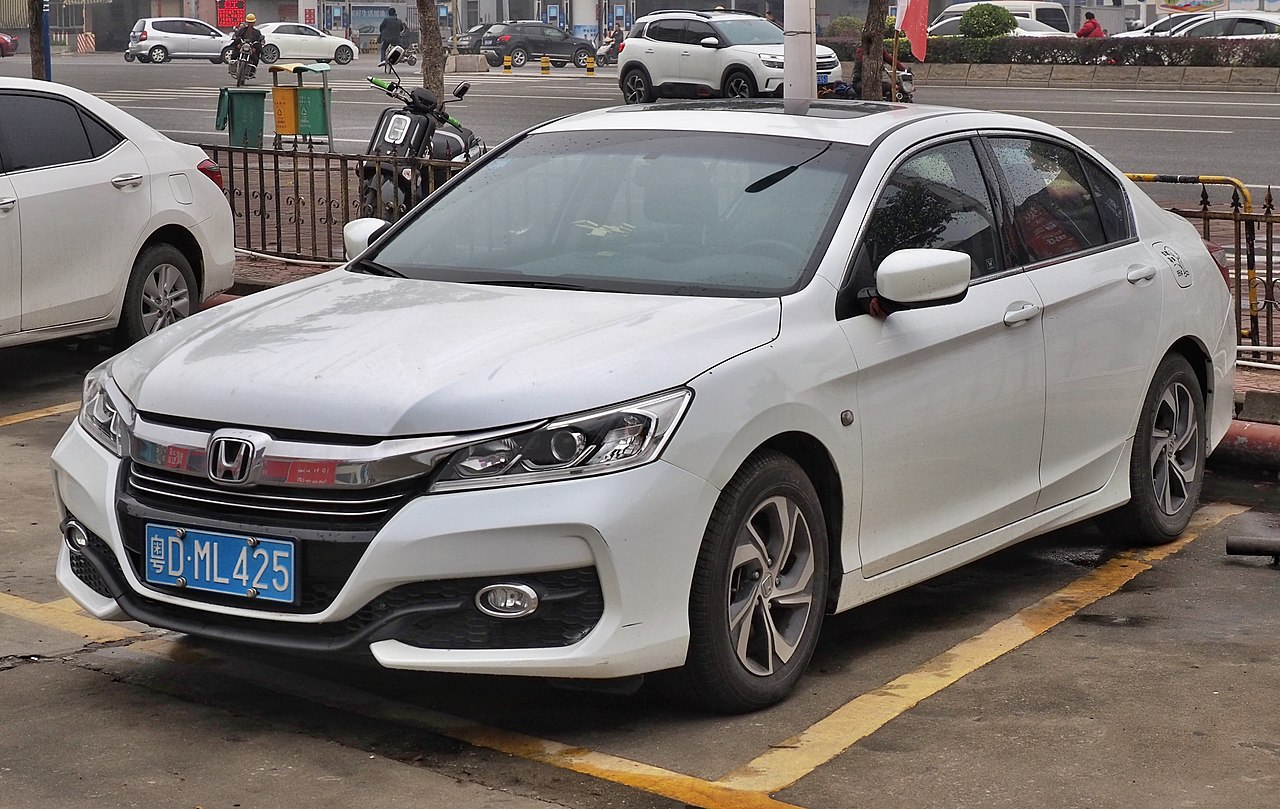plate: (144, 521, 295, 604)
